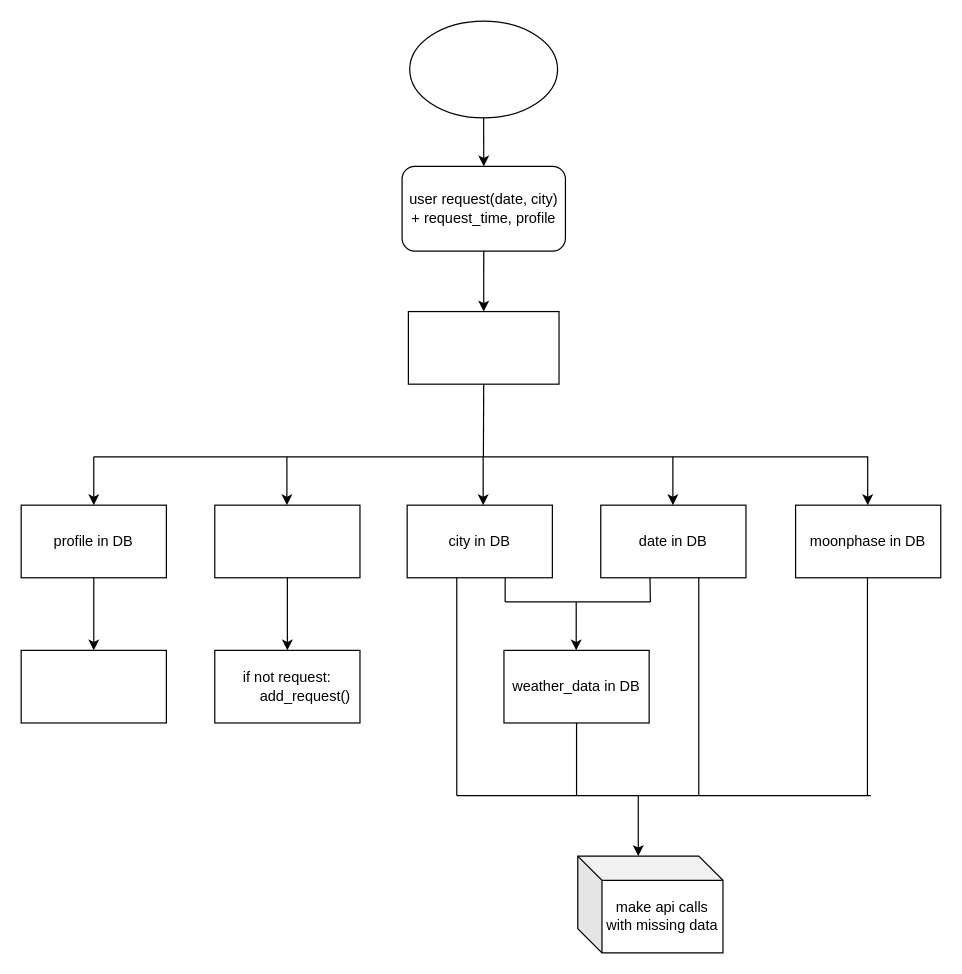
Some shapes in this 962 by 974 pixel diagram are drawn without their labels. Each missing label, with the centre of its shape:
checks: (x=483, y=347)
if not profile: add_profile(): (x=93, y=686)
request in DB: (x=287, y=541)
start: (x=483, y=69)
